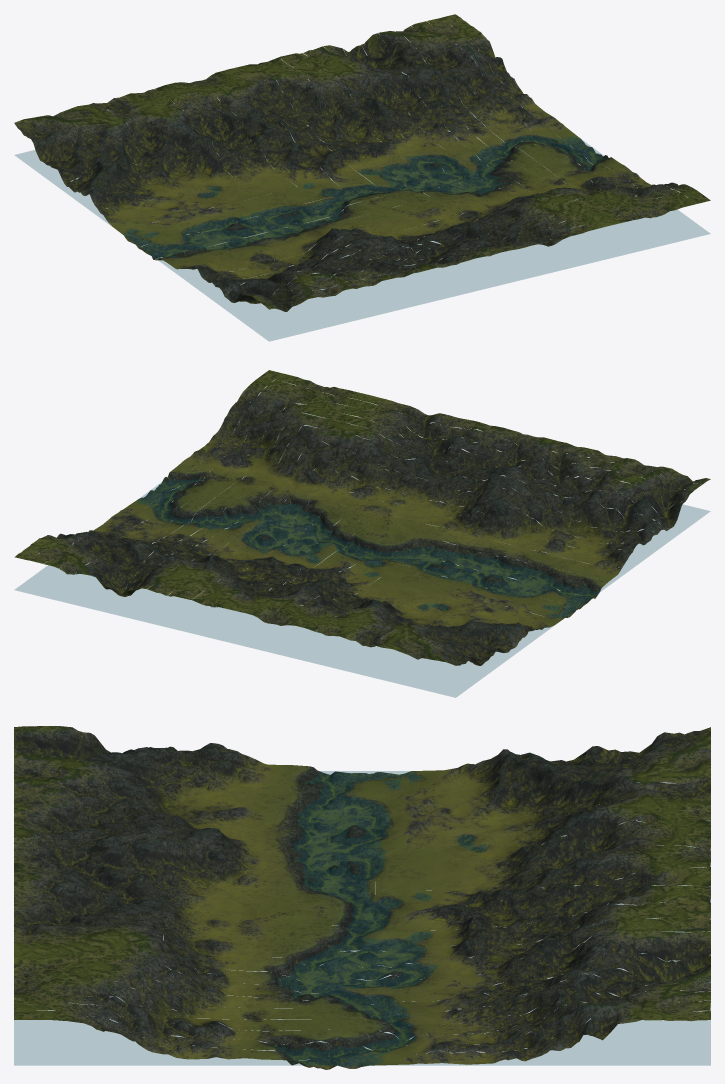
The model's file is terrain2.min.glb.
The picture shows the model from 3 angles, top to bottom: view 1: azimuth 30°, elevation 25°; view 2: azimuth 150°, elevation 25°; view 3: azimuth 270°, elevation 25°; orthographic projection. The views are drawn at different scales.
Visible parts, largest first — view 1: Null_2_terrain_0, Plane_water_0; view 2: Null_2_terrain_0, Plane_water_0; view 3: Null_2_terrain_0, Plane_water_0.
Boxes of the visible parts, x1=… form: Null_2_terrain_0: x1=14, y1=14, x2=710, y2=311; Plane_water_0: x1=15, y1=72, x2=709, y2=341; Null_2_terrain_0: x1=14, y1=370, x2=710, y2=665; Plane_water_0: x1=15, y1=408, x2=710, y2=697; Null_2_terrain_0: x1=14, y1=726, x2=710, y2=1069; Plane_water_0: x1=14, y1=771, x2=710, y2=1065.
Size of the model in its own units: 4 by 0.3179 by 4.
2 materials, 1 textured.
